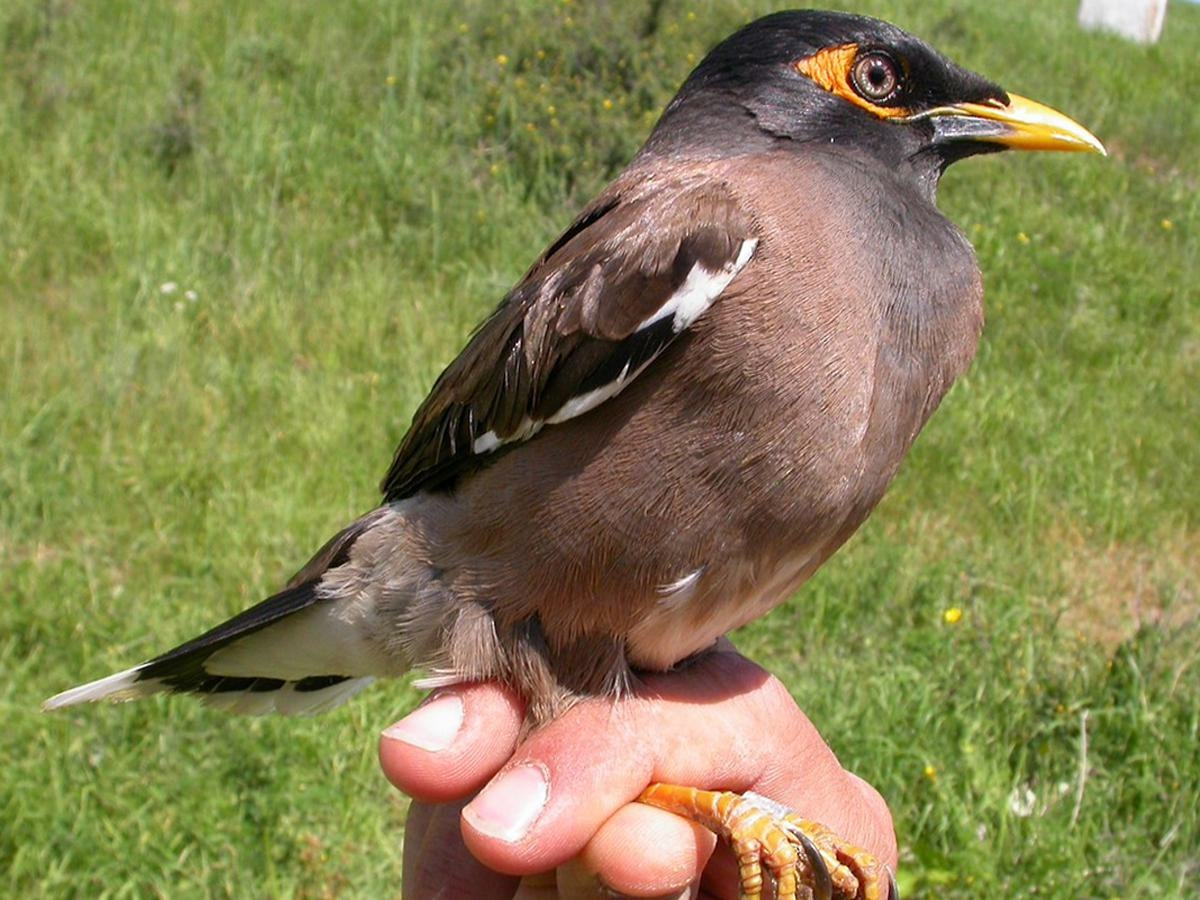myna: (389, 25, 1123, 743)
